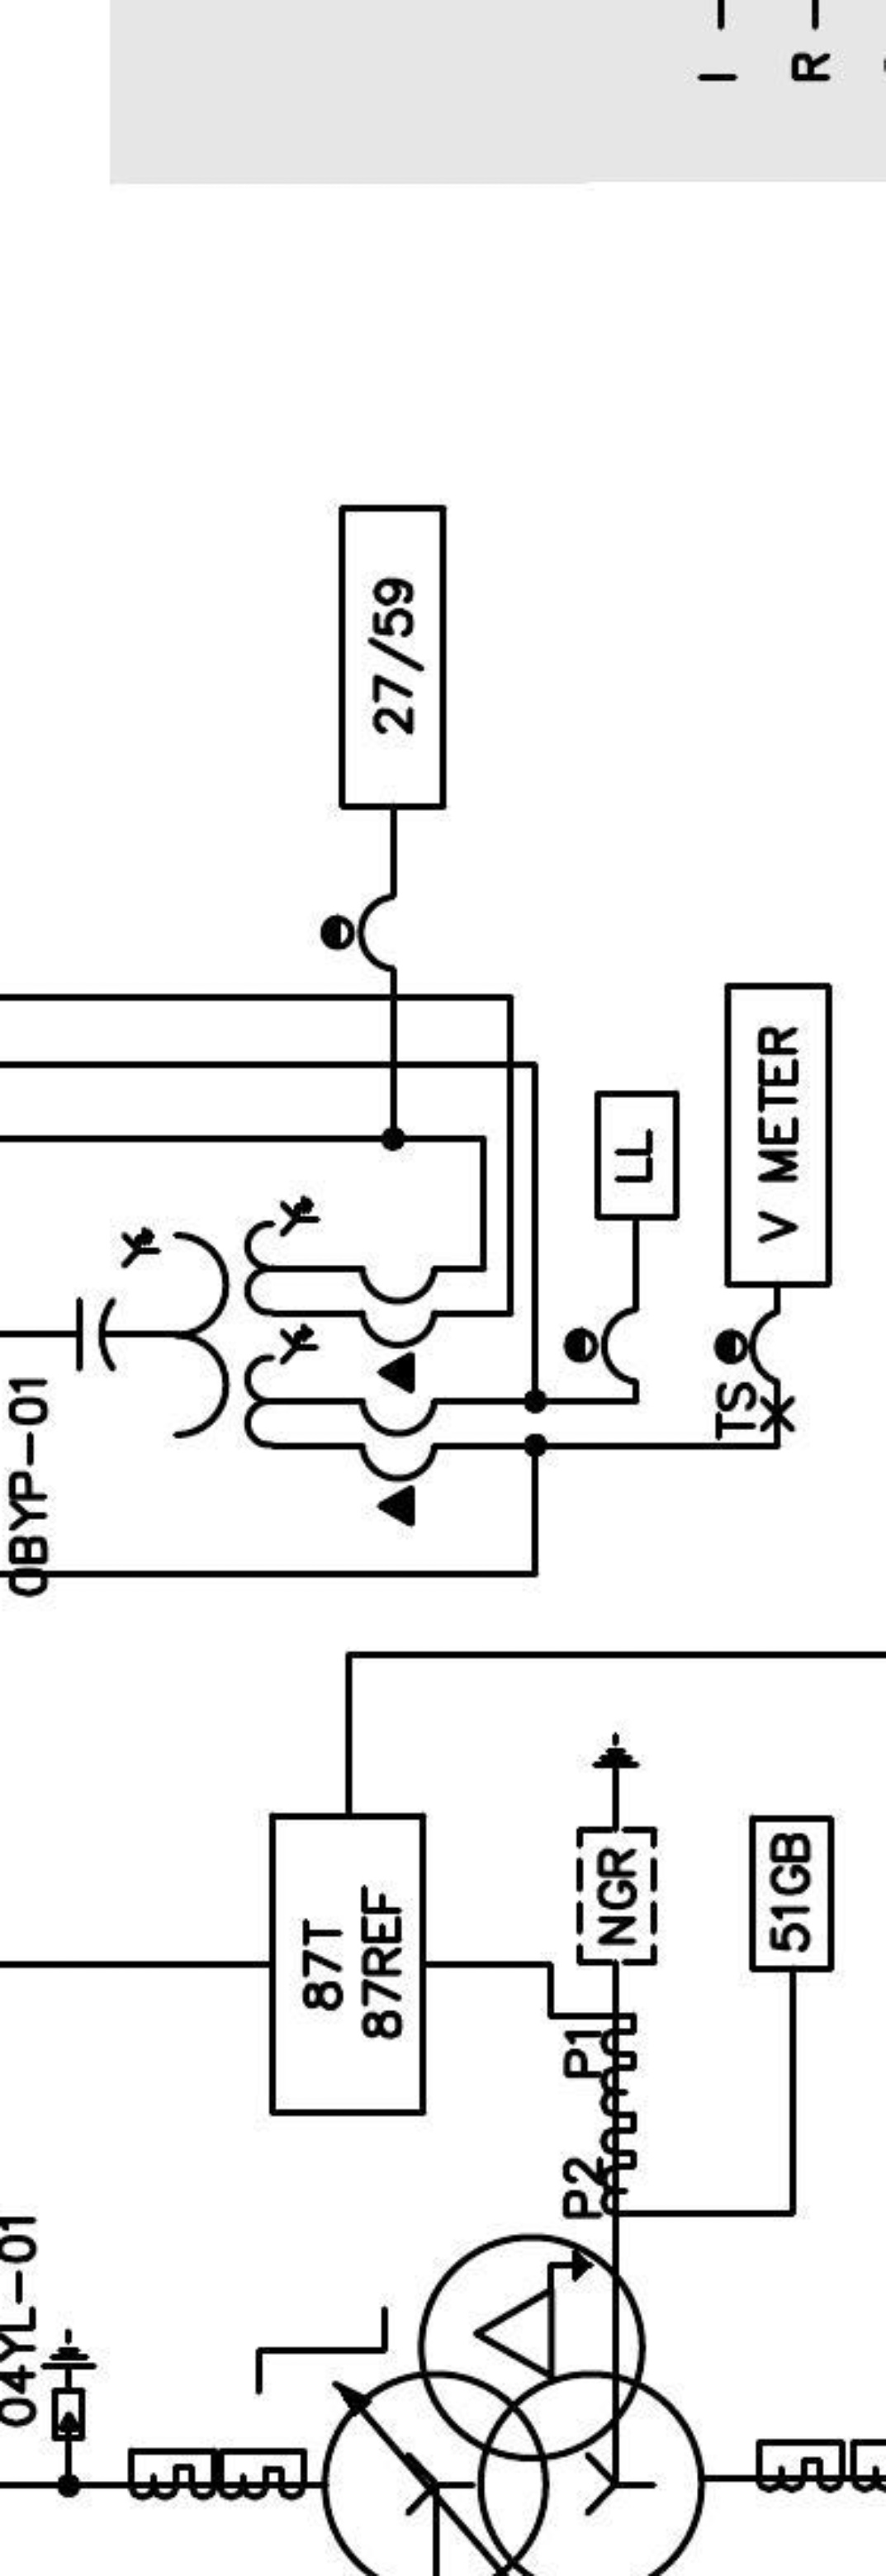115_cvt_3p: (74, 1193, 442, 1530)
115_la: (39, 2327, 98, 2443)
LL: (592, 1088, 683, 1222)
NGR_future: (576, 1731, 659, 1968)
v_m_digital: (723, 981, 835, 1290)
